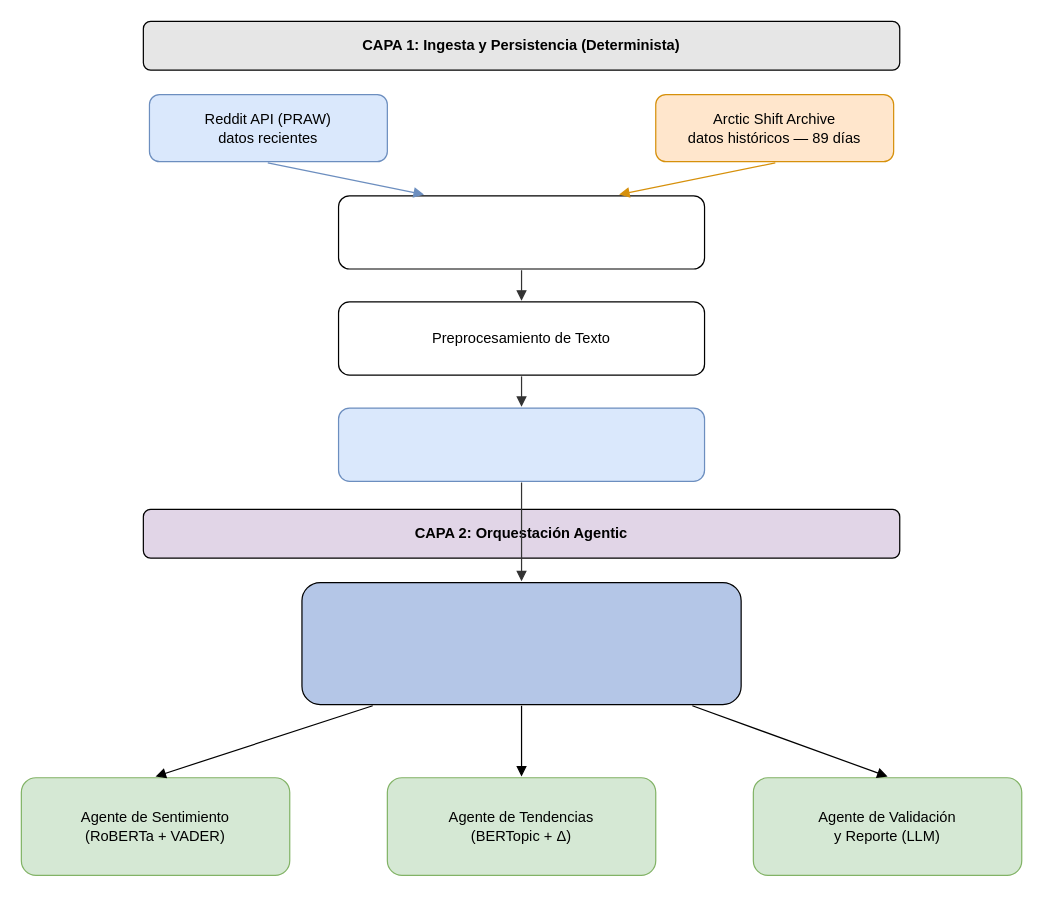
The diagram is 1043 pixels wide and 897 high, and some of its shapes have lost their labels. Here are the shapes that lost their labels. From the top down, the centre of each, then its label:
At (521,232): "Módulo de Recolección (collector.py + arctic_collector.py)".
At (521,444): "Base de Datos (SQLite)".
At (521,643): "Orquestador Agentic (LangGraph) - Estado global - Decisiones condicionales".
